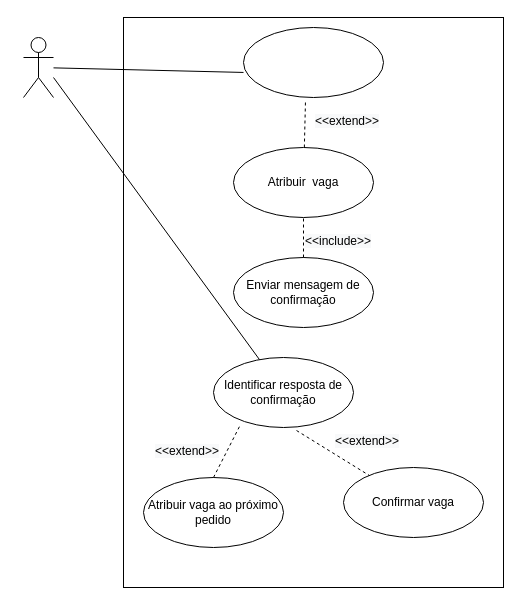
Image size: 521x605. Some labels were removed from this diagram. The box of each missing label's shape, as (x1, y1, x2, y2) in pixels:
Listar consultas aprovadas da lista de espera: (242, 26, 384, 98)
Sistema: (22, 36, 54, 98)
